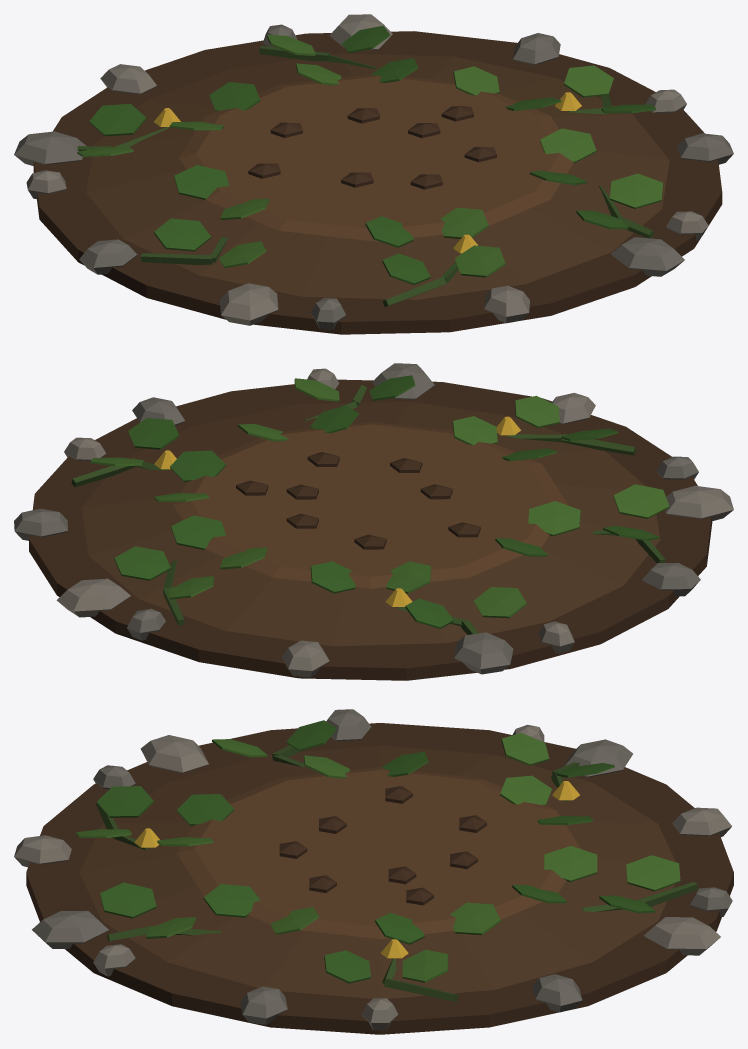
File: pumpkin_patch.glb
The picture shows the model from 3 angles, top to bottom: view 1: azimuth 30°, elevation 25°; view 2: azimuth 150°, elevation 25°; view 3: azimuth 270°, elevation 25°; orthographic projection. The views are drawn at different scales.
Visible parts, largest first — view 1: Patch; view 2: Patch; view 3: Patch.
Part boxes in pixels (x1=…): Patch: x1=14, y1=14, x2=733, y2=334; Patch: x1=14, y1=363, x2=733, y2=680; Patch: x1=14, y1=709, x2=733, y2=1034.
Size of the model in its own units: 4.11 by 0.2892 by 4.07.
